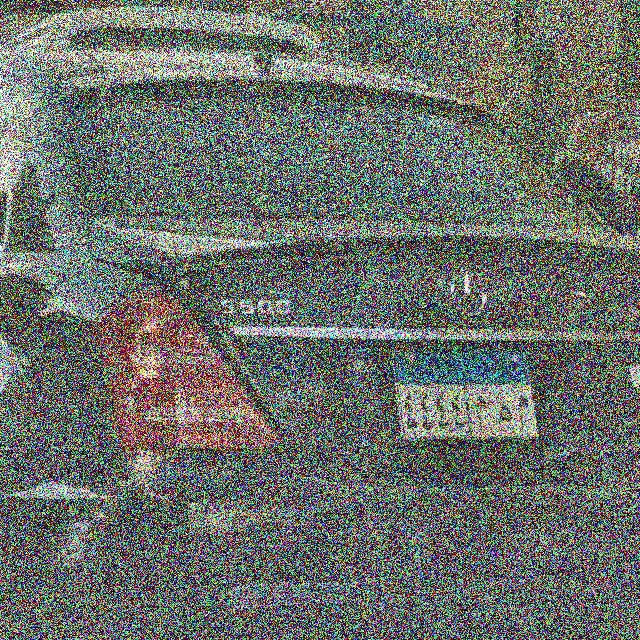License Plate: (388, 335, 542, 448)
